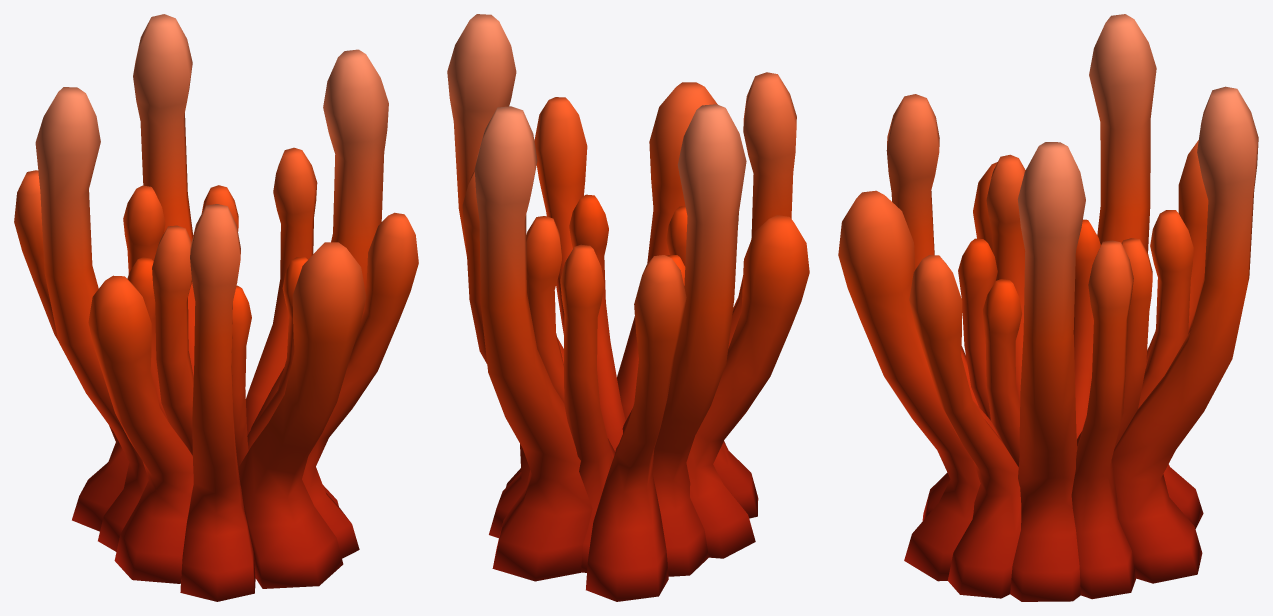
The model's file is Red_Coral_01.fbx.
3 views of the same model, side by side, from view 1: azimuth 30°, elevation 25°; view 2: azimuth 150°, elevation 25°; view 3: azimuth 270°, elevation 25° (orthographic). The views are drawn at different scales.
Visible parts, largest first — view 1: Red_Coral_01; view 2: Red_Coral_01; view 3: Red_Coral_01.
Boxes of the visible parts, box(x1,y1,x2,y2) form: Red_Coral_01: box(14, 14, 418, 601); Red_Coral_01: box(447, 14, 809, 601); Red_Coral_01: box(838, 14, 1258, 601).
Size of the model in its own units: 111 by 155 by 126.
